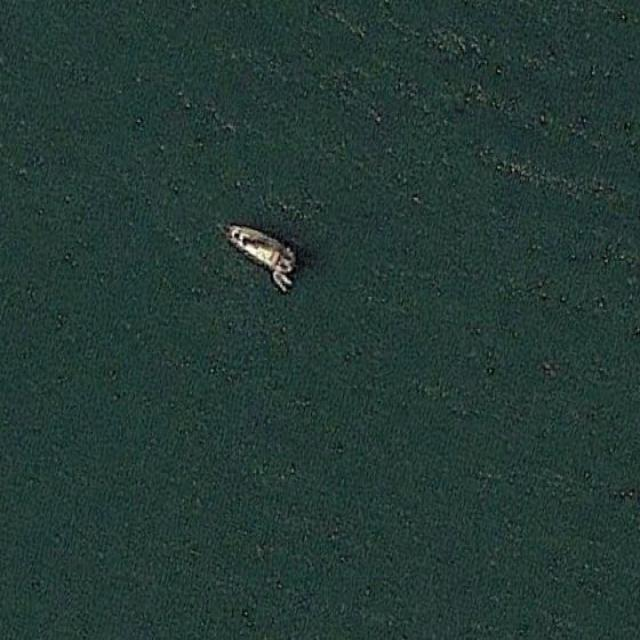ship: (216, 220, 298, 275)
